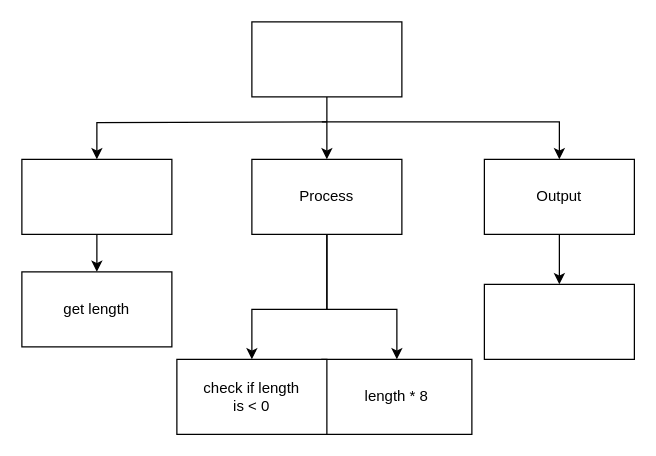
Image size: 656x456. Some labels were removed from this diagram. Each missing label, with the centre of its shape:
Input: (96,196)
perimeter of octagon: (326,59)
return perimeter: (558,321)
